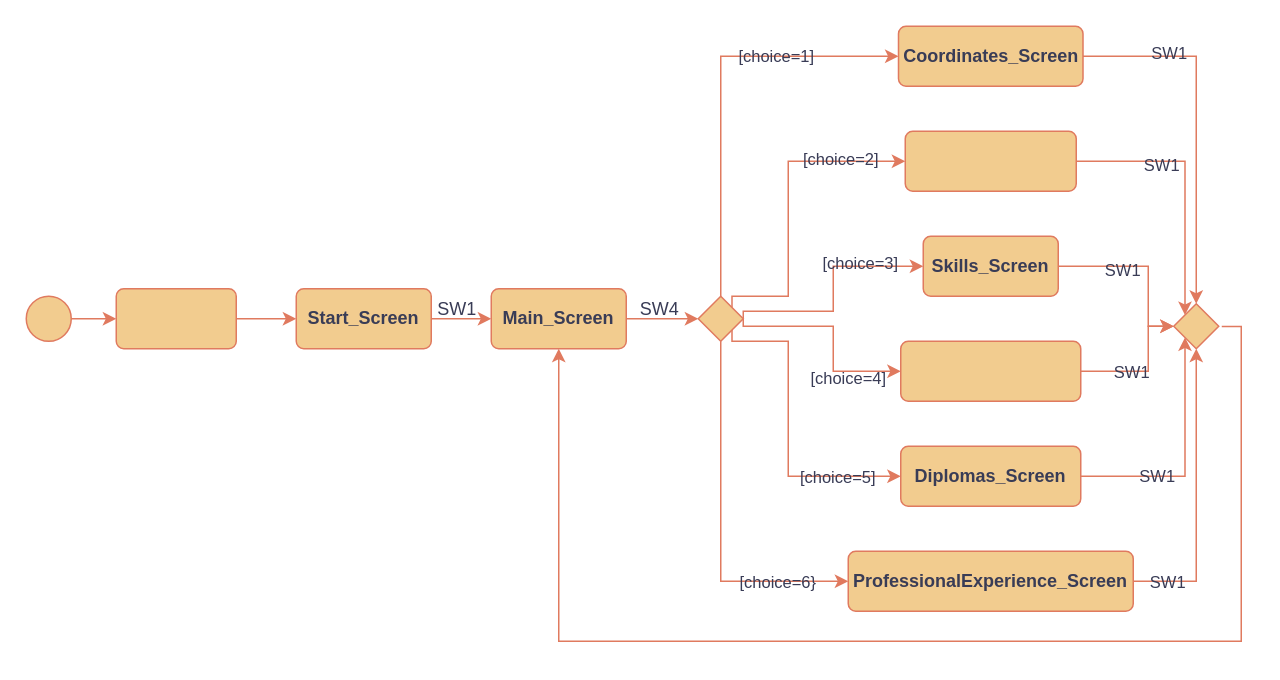
The diagram is 1280 pixels wide and 680 high, and some of its shapes have lost their labels. Each missing label, with the box of its shape:
Idle: (115, 287, 236, 349)
Languages_Screen: (899, 340, 1081, 401)
Projects_Screen: (904, 130, 1076, 191)
